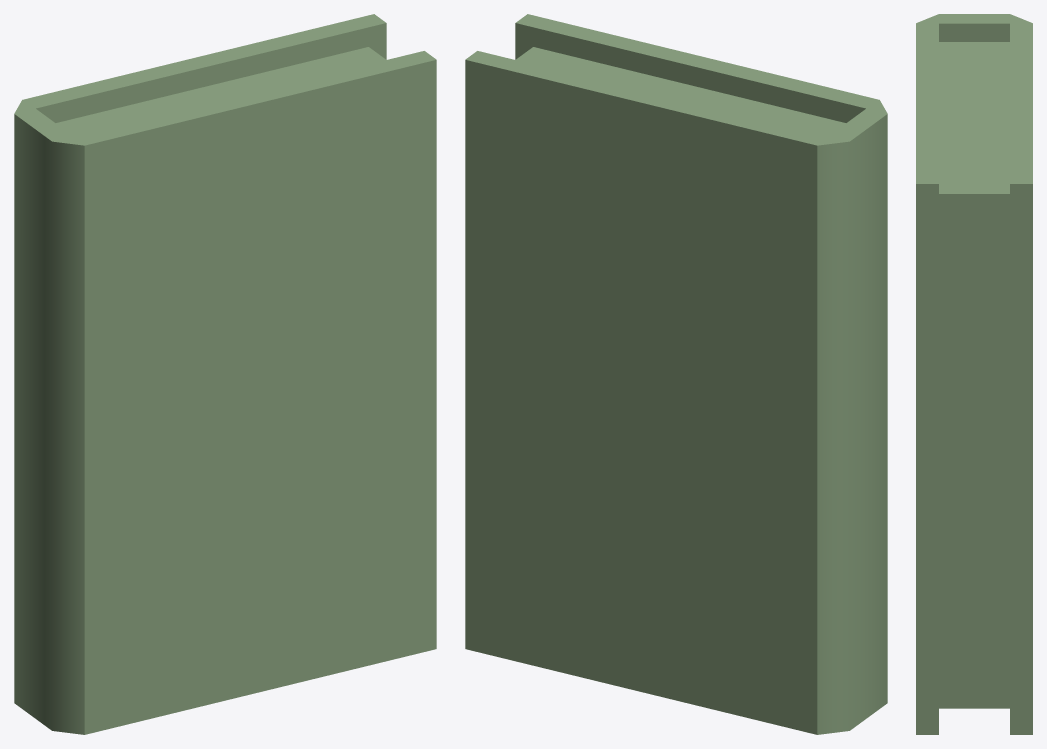
File: Book_V16.fbx
3 views of the same model, side by side, from view 1: azimuth 30°, elevation 25°; view 2: azimuth 150°, elevation 25°; view 3: azimuth 270°, elevation 25° (orthographic). The views are drawn at different scales.
Parts seen in each view (by area): view 1: Book_V16; view 2: Book_V16; view 3: Book_V16.
Part boxes in pixels (x1=…): Book_V16: x1=14, y1=14, x2=436, y2=734; Book_V16: x1=465, y1=14, x2=887, y2=734; Book_V16: x1=916, y1=14, x2=1032, y2=734.
Size of the model in its own units: 21.97 by 33.22 by 6.39.
